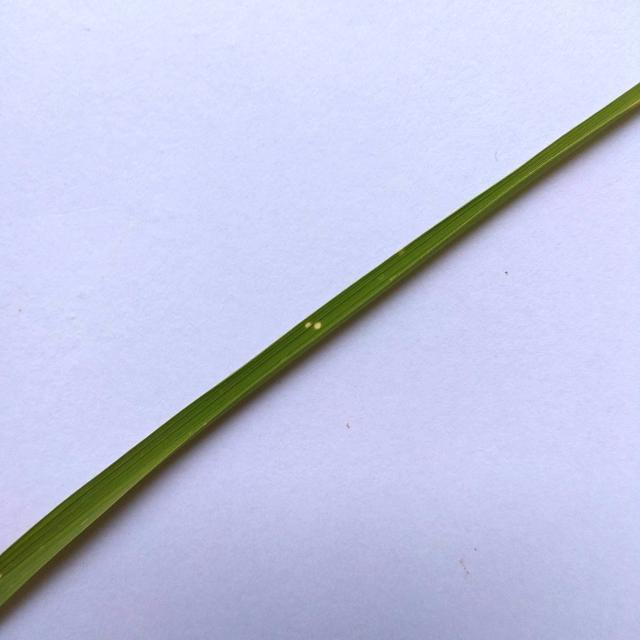Blast: (304, 318, 322, 332)
